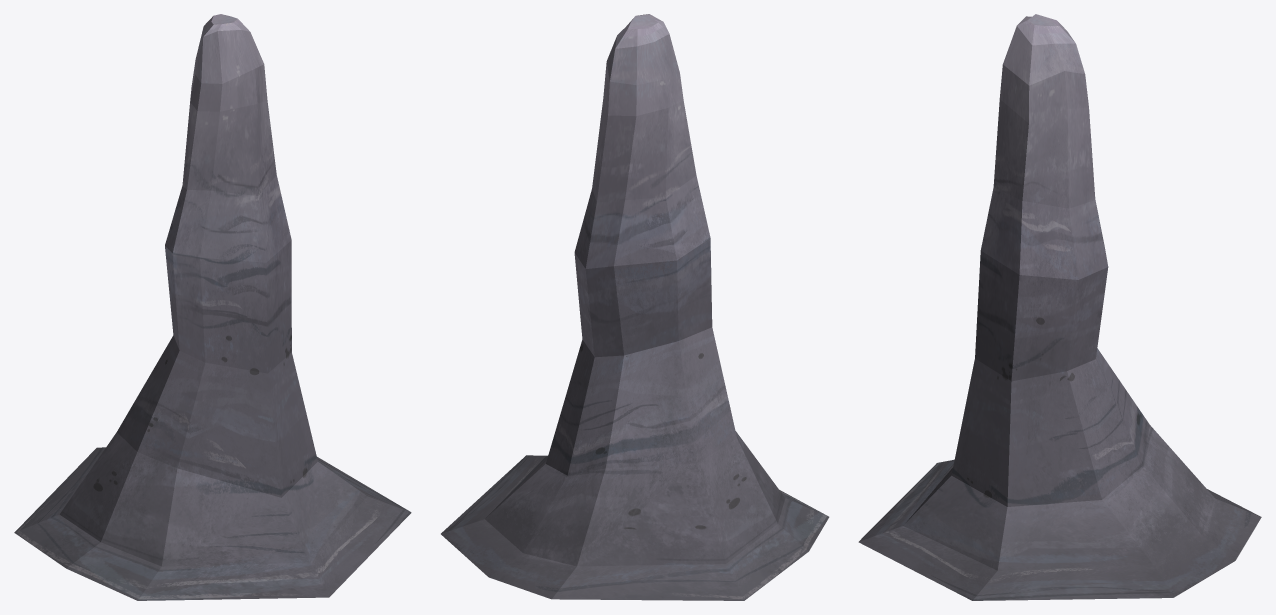
The model's file is spire_1.fbx.
3 views of the same model, side by side, from view 1: azimuth 30°, elevation 25°; view 2: azimuth 150°, elevation 25°; view 3: azimuth 270°, elevation 25° (orthographic). The views are drawn at different scales.
Visible parts, largest first — view 1: spire 1; view 2: spire 1; view 3: spire 1.
Part boxes in pixels (x1,y1,x2,y2): spire 1: [14, 14, 411, 600]; spire 1: [441, 14, 829, 600]; spire 1: [858, 14, 1261, 600].
Size of the model in its own units: 376 by 584 by 414.
